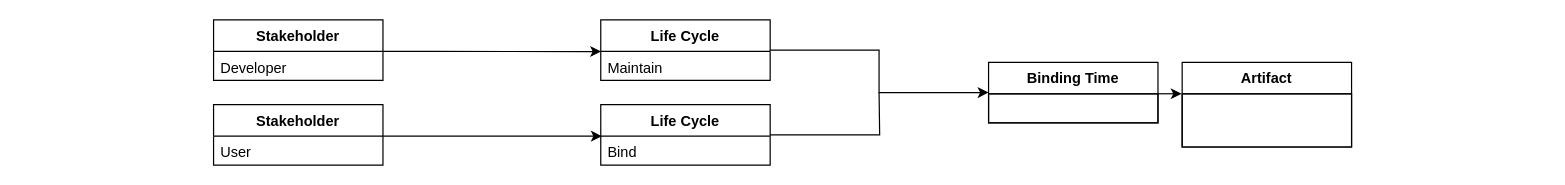
Image size: 1565x185. Some labels were removed from this diagram. The shapes that lost their labels are listed below. From the top down, each one's centre as x and y in pixels, then its label:
At (x=1072, y=108): "Load Time".
At (x=1266, y=120): "Configuration File Database".
